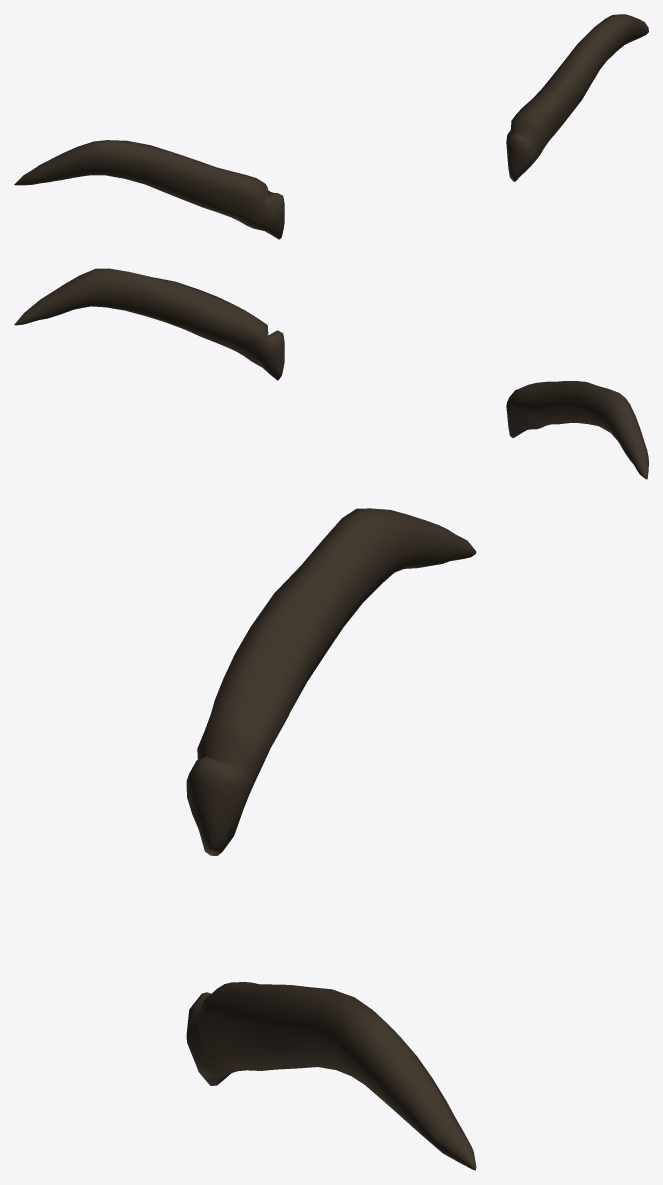
Rendered from eyebrow3.fbx.
3 renders of one model, top to bottom at view 1: azimuth 30°, elevation 25°; view 2: azimuth 150°, elevation 25°; view 3: azimuth 270°, elevation 25°, orthographic. The views are drawn at different scales.
Parts seen in each view (by area): view 1: Group1, EYEBROW3:Group61529; view 2: EYEBROW3:Group61529, Group1; view 3: Group1, EYEBROW3:Group61529.
Boxes of the visible parts, x1,y1,x2,y2 form: Group1: (14, 140, 284, 239); EYEBROW3:Group61529: (506, 14, 648, 181); EYEBROW3:Group61529: (14, 268, 284, 380); Group1: (506, 381, 648, 479); Group1: (186, 508, 476, 855); EYEBROW3:Group61529: (186, 982, 476, 1170).
Size of the model in its own units: 0.5815 by 0.0915 by 0.1152.
